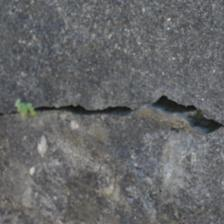Crack: (19, 46, 205, 93)
